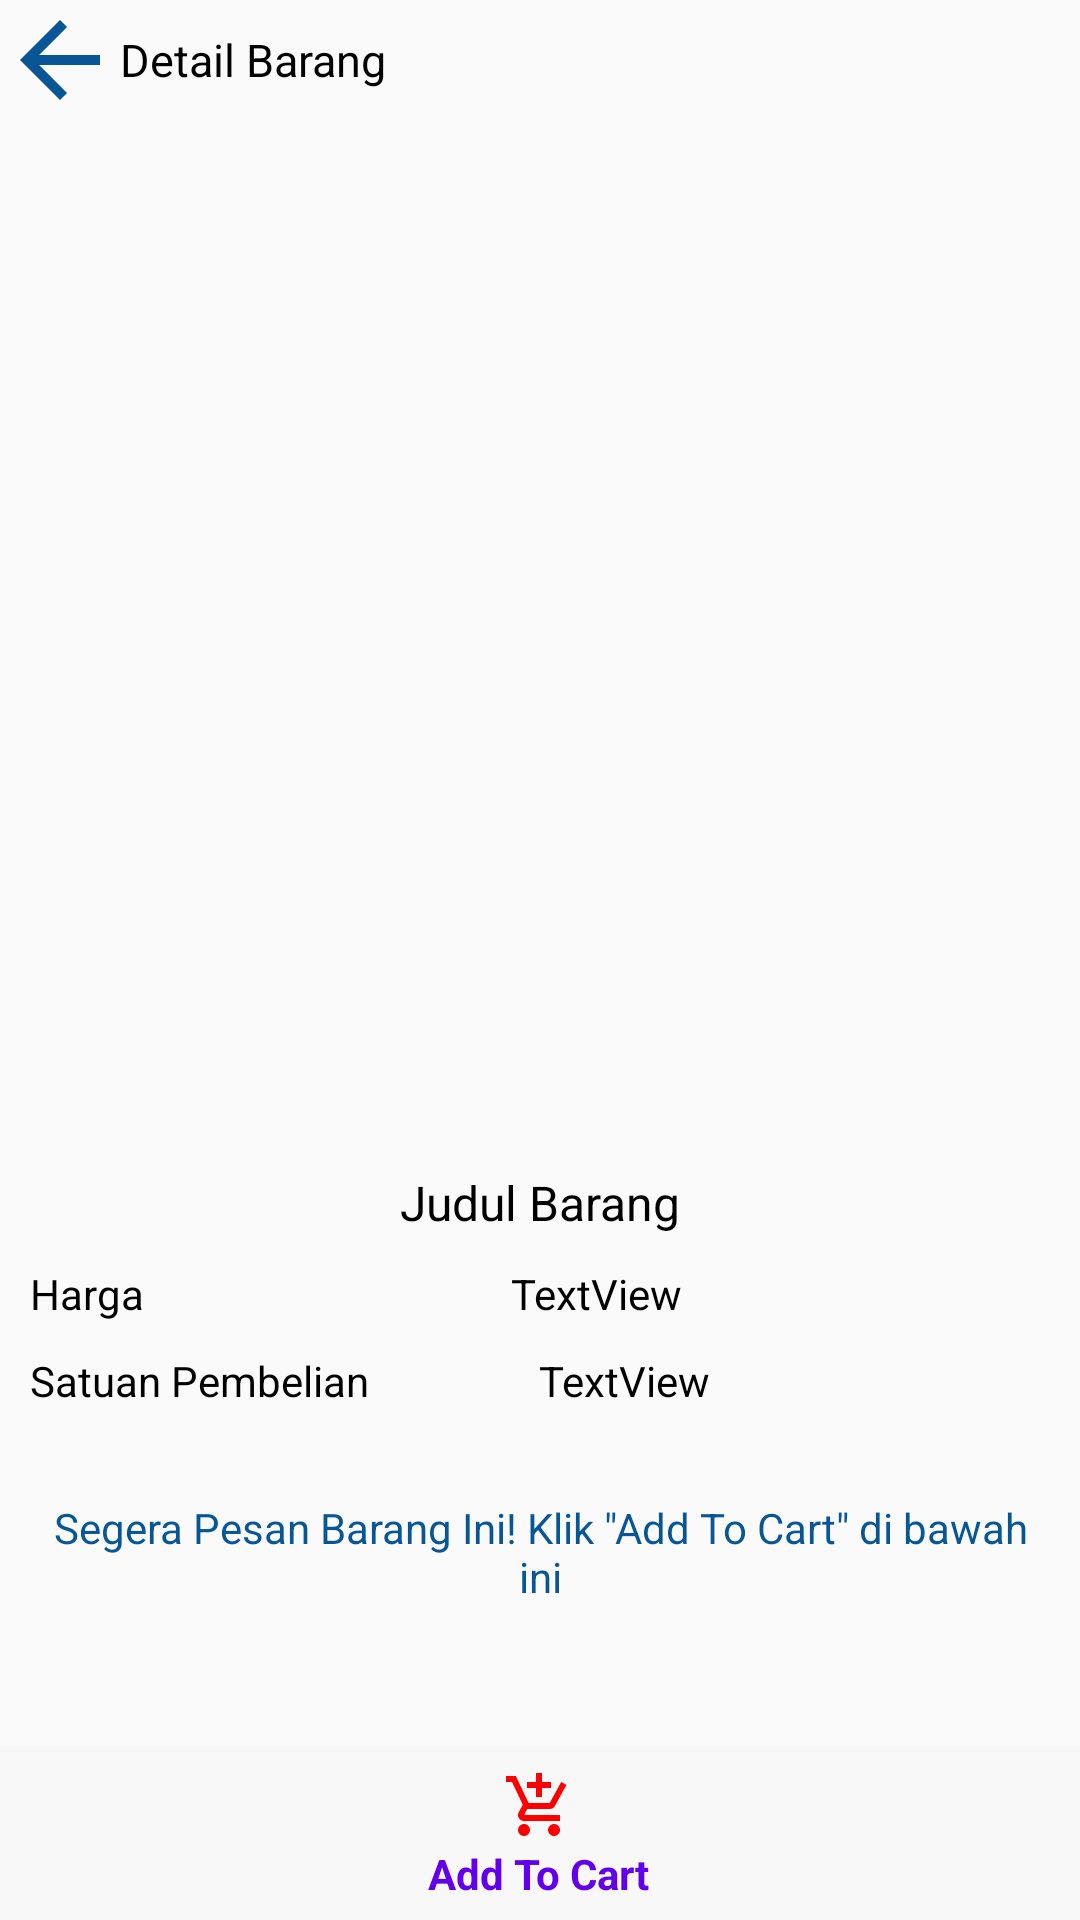

Icon bounding boxes for this 1080×1920 phone screenshot, format (x1, y1, x2, y2):
arrow: (20, 20, 100, 100)
